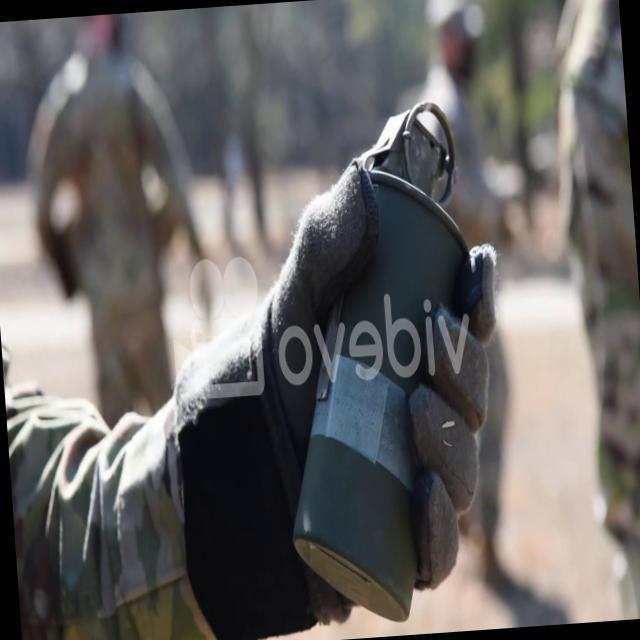grenade: (266, 94, 510, 626)
